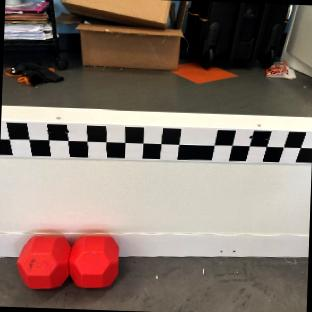V5_RED: (17, 234, 119, 289)
